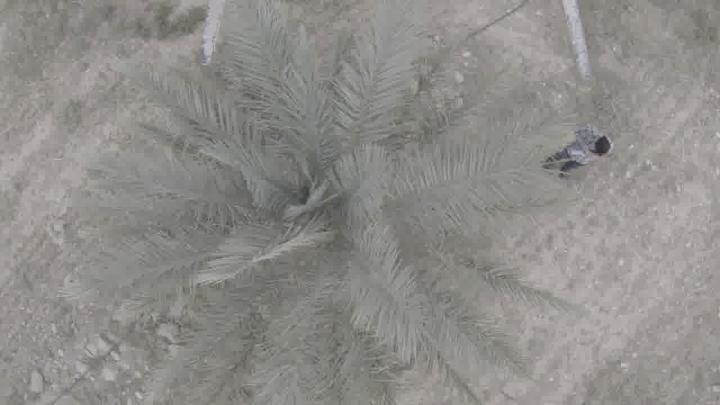Date-Palm-Crown: (169, 80, 476, 348)
